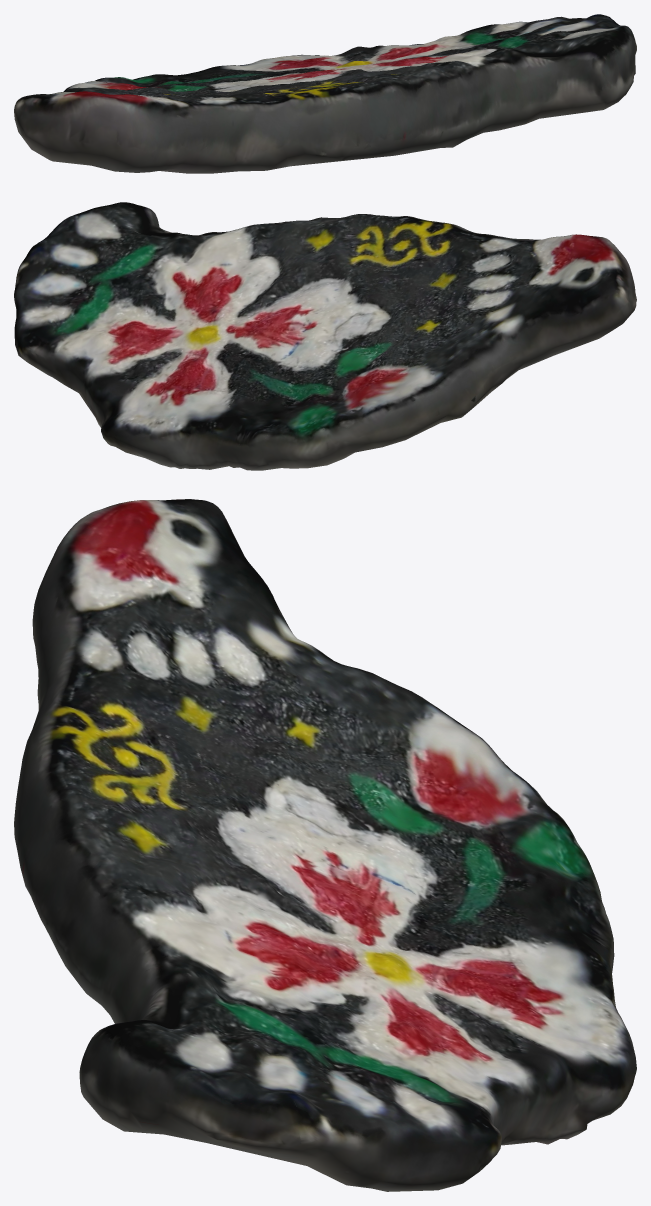
The picture shows the model from 3 angles, top to bottom: view 1: azimuth 30°, elevation 25°; view 2: azimuth 150°, elevation 25°; view 3: azimuth 270°, elevation 25°; orthographic projection. The views are drawn at different scales.
Bounding box in the file's own units: 0.6278 × 0.1971 × 0.3424.
1 material, 1 textured.
